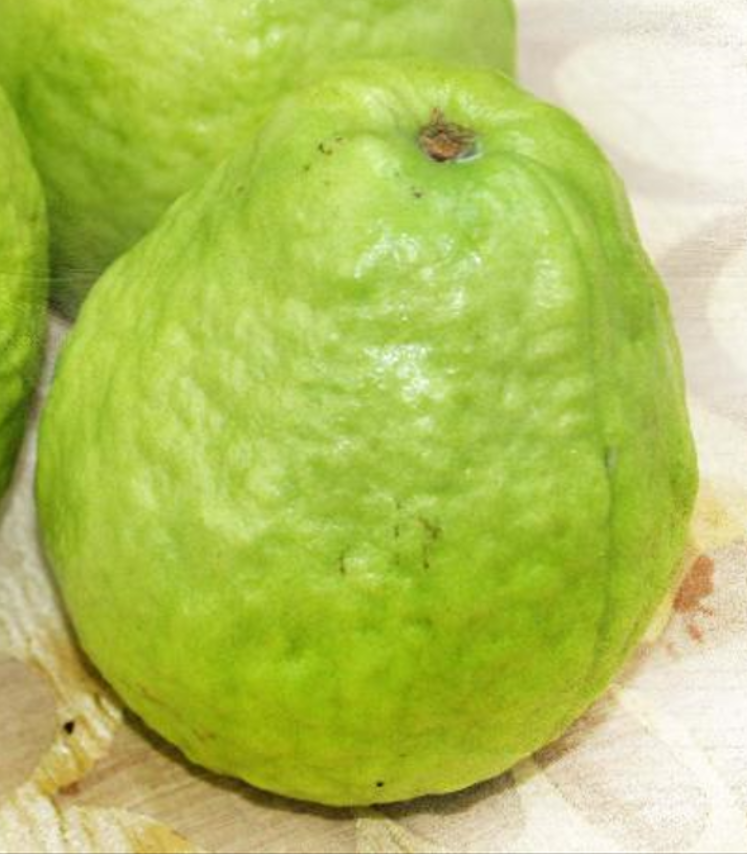guava_B: (34, 63, 700, 811)
